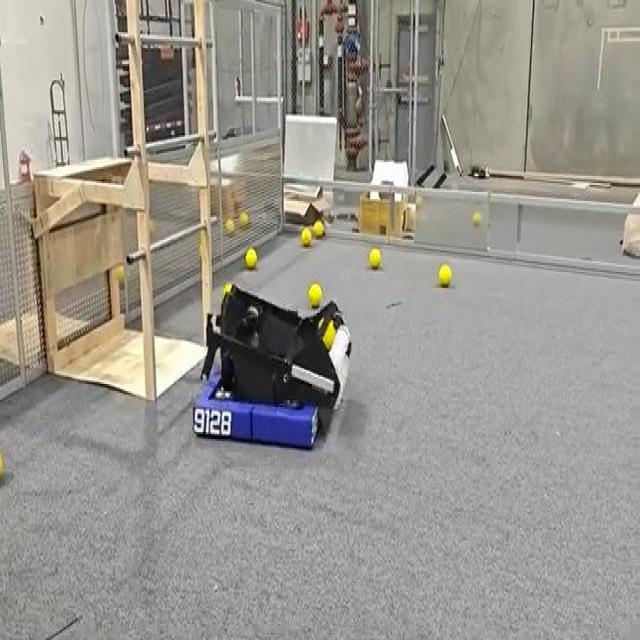Fuel: (308, 282, 322, 308), (438, 263, 451, 286), (245, 247, 257, 269), (369, 247, 381, 269), (369, 248, 382, 268), (245, 248, 257, 268), (300, 228, 312, 247), (313, 220, 324, 237), (222, 282, 232, 298), (472, 212, 482, 228), (222, 283, 232, 299), (225, 219, 234, 233), (239, 212, 248, 226)
